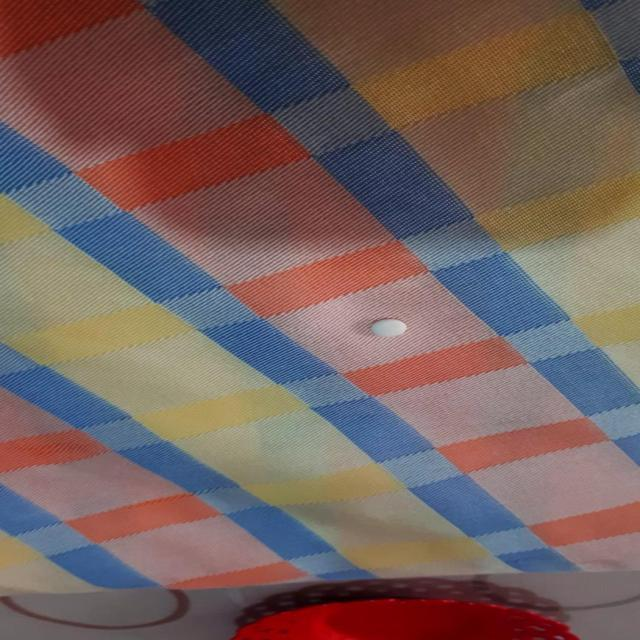pill: (362, 316, 412, 340)
